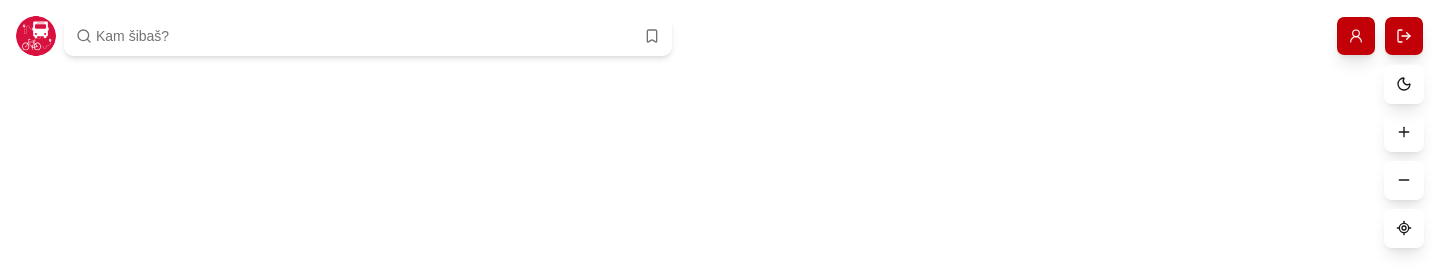
it: integracijski MainAppControlOverlay › dropdown shranjenih poti formatira trajanje, razdaljo in relacijo
What coordinates should you click on to do the following:
click the button named "Shranjene poti"
I would click on:
 (652, 36)
Its box is [640,24,664,48].
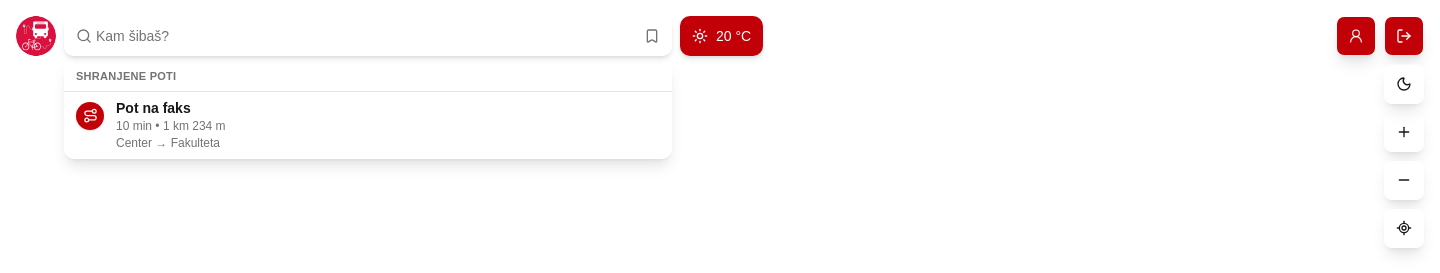
Expected: the text "Pot na faks" is shown, [116,100,191,116]
Expected: the text "10 min • 1 km 234 m" is shown, [116,119,226,134]
Expected: the text "Center → Fakulteta" is shown, [116,136,226,151]
